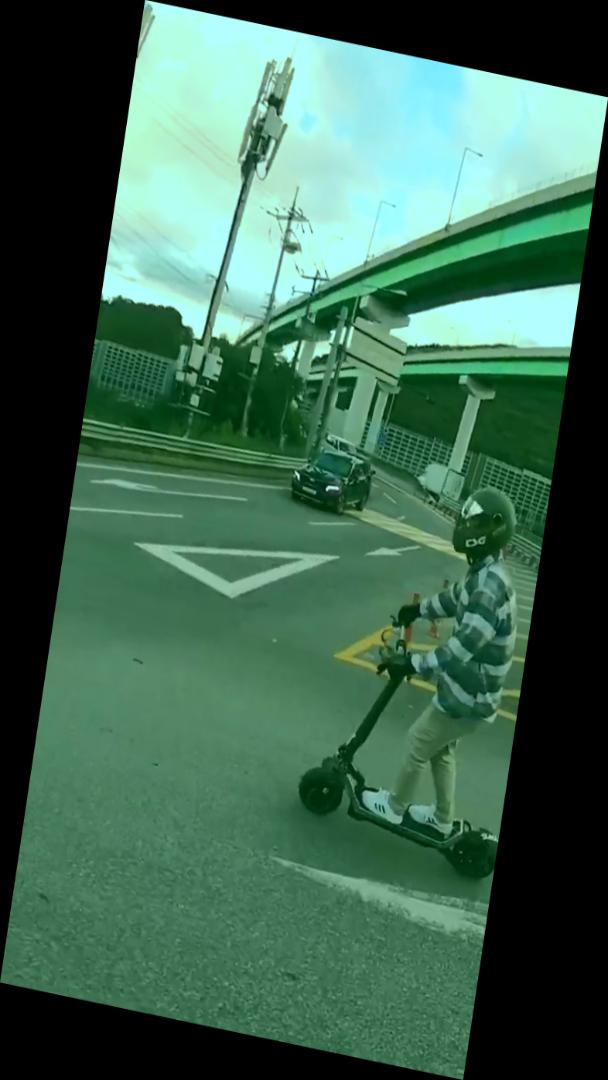helmet: (292, 455, 549, 881)
